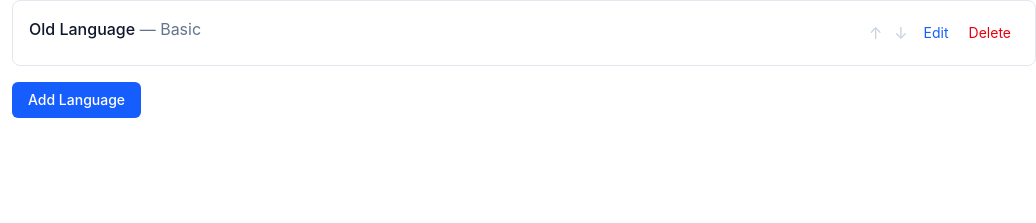
Test case: LanguageSection › edits an existing language
The image size is (1036, 223).
Click the button "Edit" at (936, 33), box x1=916 y1=19 x2=957 y2=47
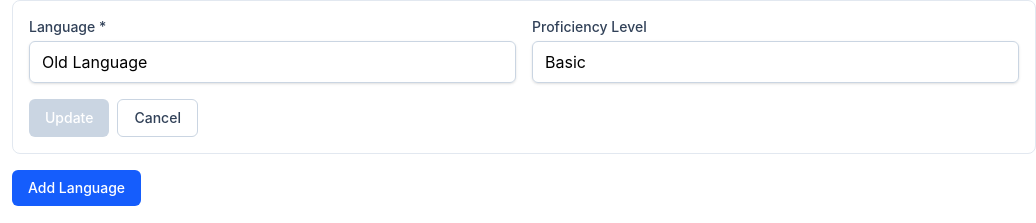
Replace the text in the field labelled "Language *" with "New Language" at (272, 62), box x1=29 y1=41 x2=516 y2=83
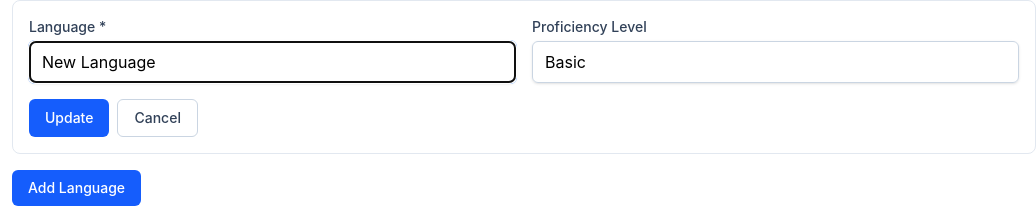
Click the button "Update" at (69, 118), box x1=29 y1=99 x2=110 y2=137
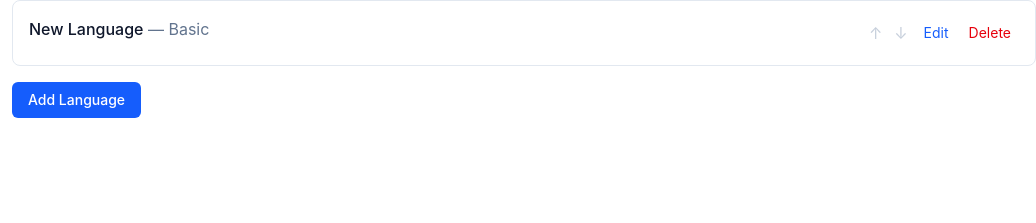
Expected: the heading "Old Language" is not shown
Expected: the heading "New Language — Basic" is shown, x1=29 y1=19 x2=209 y2=39
